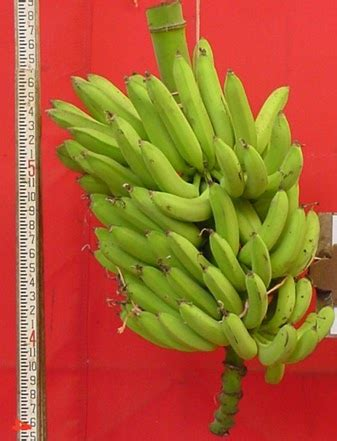banana: (142, 69, 204, 173), (173, 50, 213, 165), (240, 184, 289, 261), (148, 184, 217, 223), (200, 263, 245, 318), (219, 308, 259, 363), (252, 321, 297, 369), (160, 314, 211, 351)
